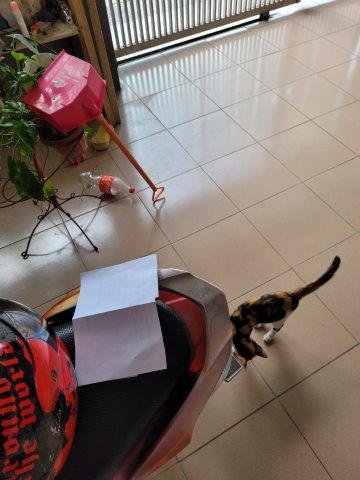botolplastik: (77, 170, 138, 200)
kertas: (71, 252, 170, 383)
